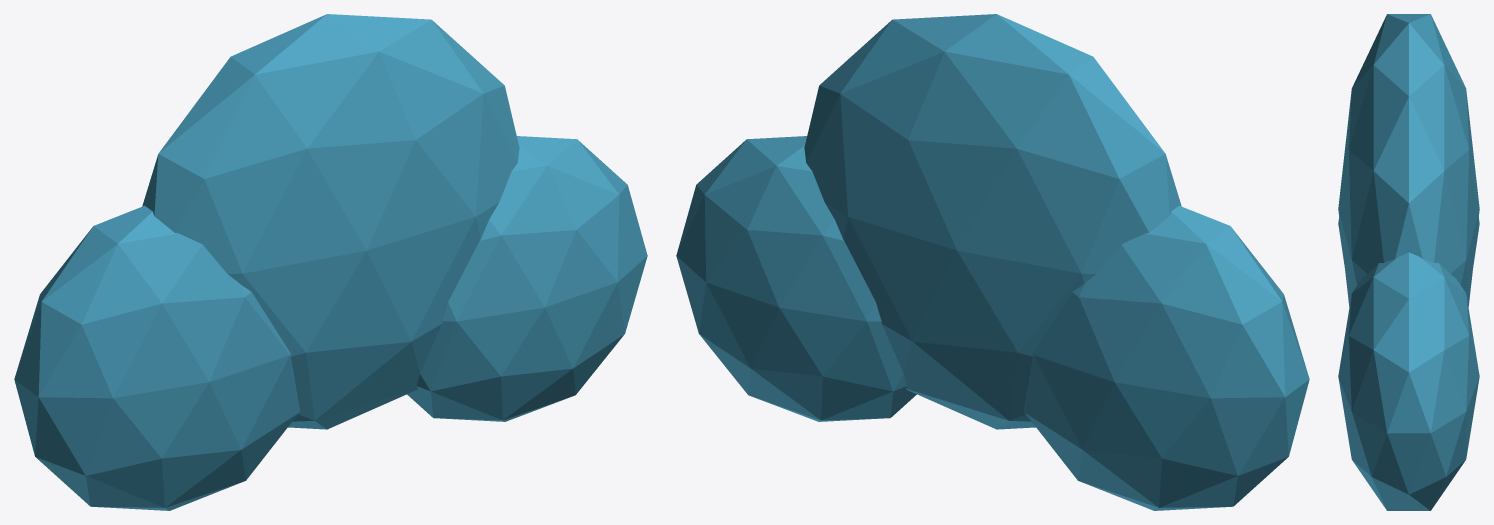
The model's file is status-gas.glb.
3 renders of one model, left to right at view 1: azimuth 30°, elevation 25°; view 2: azimuth 150°, elevation 25°; view 3: azimuth 270°, elevation 25°, orthographic. The views are drawn at different scales.
Parts seen in each view (by area): view 1: status-gas.001, status-gas, status-gas.002; view 2: status-gas.001, status-gas, status-gas.002; view 3: status-gas.001, status-gas.002.
Part boxes in pixels (x1,y1,x2,y2): status-gas.001: (142,14,519,429); status-gas: (14,205,299,510); status-gas.002: (407,136,647,421); status-gas.001: (804,14,1181,429); status-gas: (1024,205,1309,510); status-gas.002: (676,136,916,421); status-gas.001: (1338,14,1479,306); status-gas.002: (1338,252,1479,510).
Bounding box in the file's own units: 0.8894 × 0.64 × 0.2.
